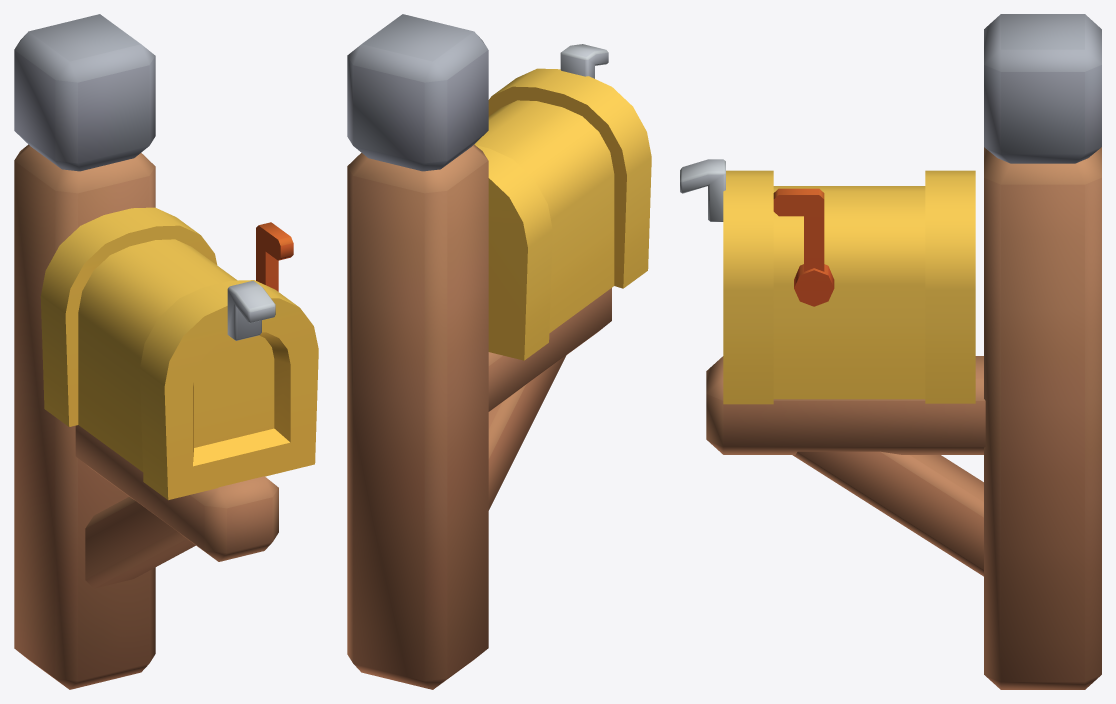
The model's file is mailbox.glb.
3 views of the same model, side by side, from view 1: azimuth 30°, elevation 25°; view 2: azimuth 150°, elevation 25°; view 3: azimuth 270°, elevation 25° (orthographic).
Parts seen in each view (by area): view 1: mailbox; view 2: mailbox; view 3: mailbox.
Boxes of the visible parts, x1,y1,x2,y2 form: mailbox: (14,14,318,689); mailbox: (347,14,651,689); mailbox: (680,14,1101,689).
Size of the model in its own units: 0.5527 by 2.1 by 1.25.
Materials: 1 (1 with a texture image).
